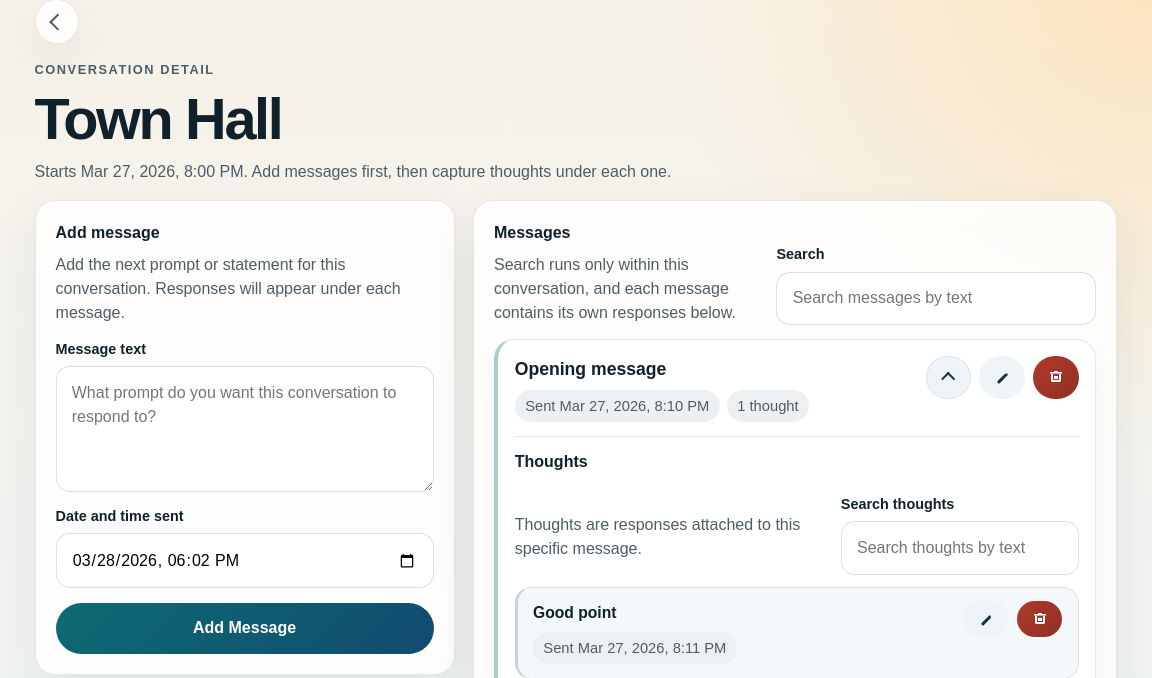
Scenario: ConversationDetailPage › renders nested thoughts and creates a message
Expected: the heading "Opening message" is shown, [515,359,666,379]
Expected: the text "Good point" is shown, [533,604,617,621]
In the text box labelled "Message text": (244, 429) [56,366,434,492], type "Follow-up"
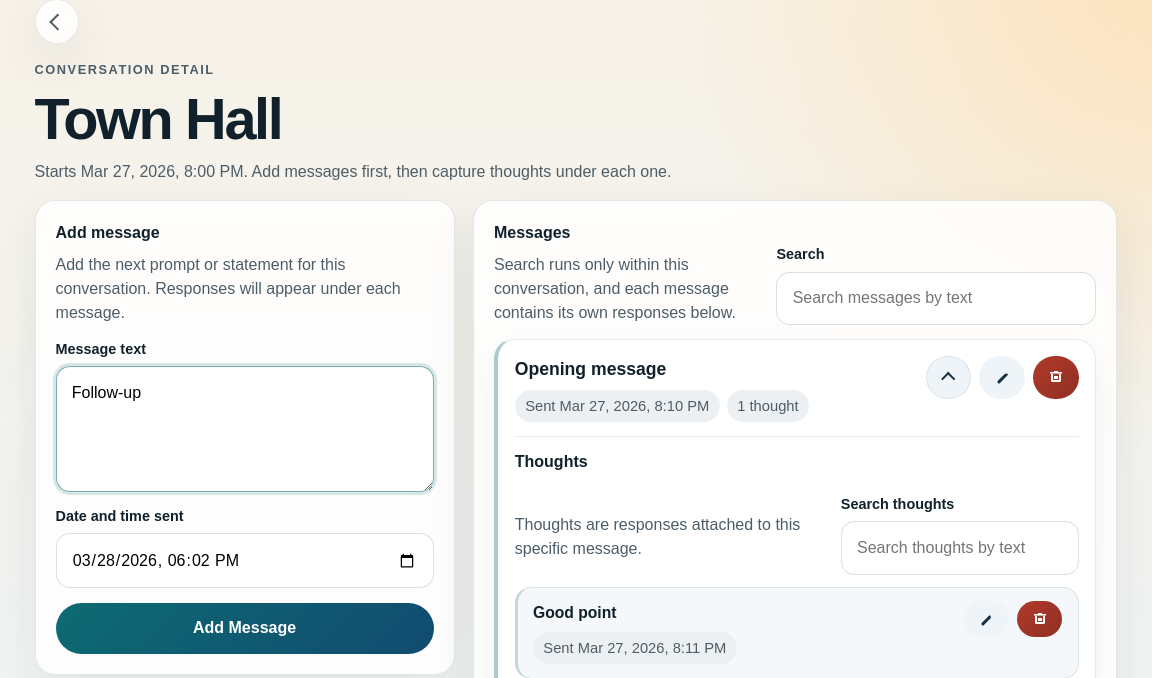
Click the button "Add Message": click(244, 628) [56,603,434,654]
(page scrolled)
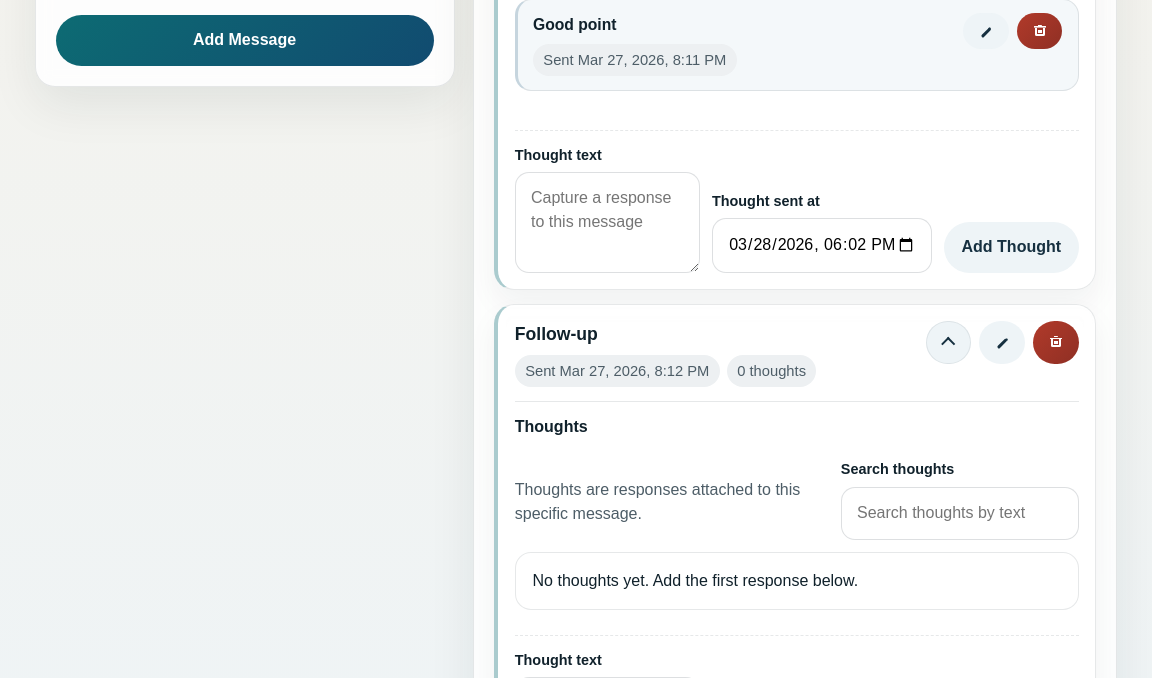
Expected: the heading "Follow-up" is shown, [515,324,598,344]
